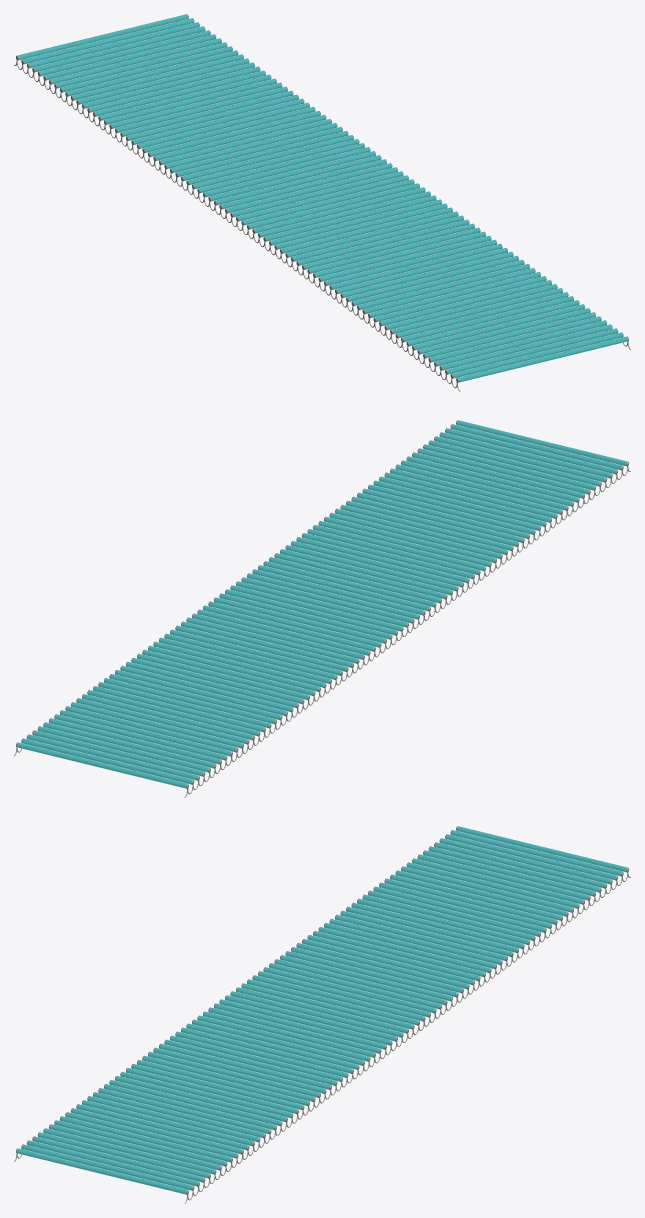
File: CA_138_electrifying_bars_var1.glb
3 renders of one model, top to bottom at view 1: azimuth 30°, elevation 25°; view 2: azimuth 150°, elevation 25°; view 3: azimuth 330°, elevation 25°, orthographic.
Visible parts, largest first — view 1: electrifying_bars; view 2: electrifying_bars; view 3: electrifying_bars.
Boxes of the visible parts, box(x1,y1,x2,y2) form: electrifying_bars: box(14, 14, 630, 391); electrifying_bars: box(14, 420, 630, 797); electrifying_bars: box(14, 826, 630, 1203).
Size of the model in its own units: 3 by 0.1949 by 13.5.
